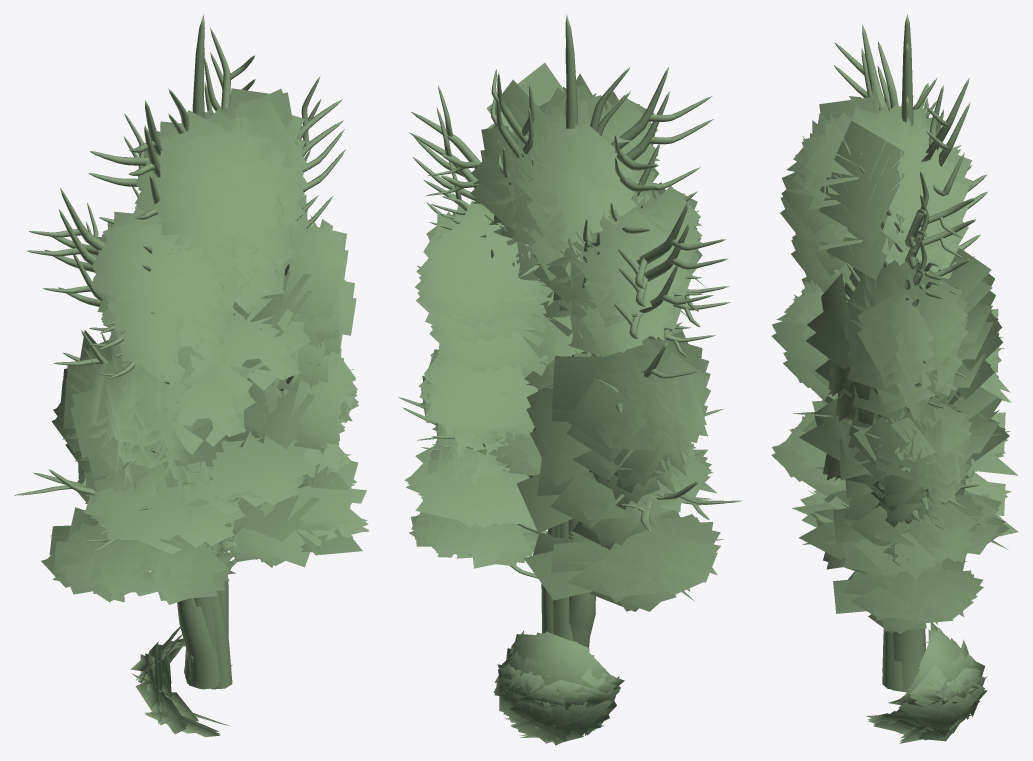
File: forest-edge.glb
3 views of the same model, side by side, from view 1: azimuth 30°, elevation 25°; view 2: azimuth 150°, elevation 25°; view 3: azimuth 270°, elevation 25° (orthographic).
Parts seen in each view (by area): view 1: architecture.forest-edge.doorway:state-door, architecture.forest-edge.doorway:condition-overgrown, architecture.forest-edge.doorway:condition-damaged, architecture.forest-edge.doorway:condition-weathered, architecture.forest-edge.doorway:condition-burned, architecture.forest-edge.fountain:visual-base, architecture.forest-edge.fountain:condition-weathered, architecture.forest-edge.fountain:condition-overgrown, architecture.forest-edge.fountain:condition-damaged, architecture.forest-edge.fountain:condition-burned, architecture.forest-edge.beam:condition-weathered, architecture.forest-edge.beam:visual-base (+2 smaller); view 2: architecture.forest-edge.doorway:state-door, architecture.forest-edge.doorway:condition-overgrown, architecture.forest-edge.doorway:condition-weathered, architecture.forest-edge.doorway:condition-damaged, architecture.forest-edge.doorway:condition-burned, architecture.forest-edge.fountain:visual-base, architecture.forest-edge.fountain:condition-weathered, architecture.forest-edge.beam:condition-weathered, architecture.forest-edge.beam:visual-base, architecture.forest-edge.beam:condition-overgrown, architecture.forest-edge.fountain:condition-burned, architecture.forest-edge.fountain:condition-overgrown (+2 smaller); view 3: architecture.forest-edge.doorway:state-door, architecture.forest-edge.doorway:condition-damaged, architecture.forest-edge.doorway:condition-overgrown, architecture.forest-edge.doorway:condition-weathered, architecture.forest-edge.doorway:condition-burned, architecture.forest-edge.fountain:visual-base, architecture.forest-edge.beam:condition-damaged, architecture.forest-edge.fountain:condition-weathered, architecture.forest-edge.beam:visual-base, architecture.forest-edge.beam:condition-weathered, architecture.forest-edge.beam:condition-overgrown, architecture.forest-edge.fountain:condition-burned (+1 smaller).
Part boxes in pixels (box(x1,y1,x2,y2)): architecture.forest-edge.doorway:state-door: box(53, 88, 357, 544); architecture.forest-edge.doorway:condition-overgrown: box(41, 431, 369, 679); architecture.forest-edge.doorway:condition-damaged: box(77, 295, 353, 637); architecture.forest-edge.doorway:condition-weathered: box(51, 123, 358, 687); architecture.forest-edge.doorway:condition-burned: box(65, 221, 344, 688); architecture.forest-edge.fountain:visual-base: box(29, 14, 344, 624); architecture.forest-edge.fountain:condition-weathered: box(27, 48, 345, 688); architecture.forest-edge.fountain:condition-overgrown: box(14, 448, 220, 683); architecture.forest-edge.fountain:condition-damaged: box(53, 312, 293, 689); architecture.forest-edge.fountain:condition-burned: box(42, 100, 332, 689); architecture.forest-edge.beam:condition-weathered: box(135, 627, 220, 734); architecture.forest-edge.beam:visual-base: box(136, 627, 219, 737); architecture.forest-edge.doorway:state-door: box(416, 63, 709, 603); architecture.forest-edge.doorway:condition-overgrown: box(404, 434, 723, 635); architecture.forest-edge.doorway:condition-weathered: box(415, 102, 710, 641); architecture.forest-edge.doorway:condition-damaged: box(418, 289, 690, 633); architecture.forest-edge.doorway:condition-burned: box(429, 193, 695, 509); architecture.forest-edge.fountain:visual-base: box(411, 14, 729, 311); architecture.forest-edge.fountain:condition-weathered: box(409, 48, 730, 539); architecture.forest-edge.beam:condition-weathered: box(502, 633, 620, 741); architecture.forest-edge.beam:visual-base: box(505, 631, 616, 745); architecture.forest-edge.beam:condition-overgrown: box(494, 648, 624, 712); architecture.forest-edge.fountain:condition-burned: box(424, 99, 715, 357); architecture.forest-edge.fountain:condition-overgrown: box(399, 397, 741, 647); architecture.forest-edge.doorway:state-door: box(781, 84, 1010, 497); architecture.forest-edge.doorway:condition-damaged: box(771, 280, 1018, 692); architecture.forest-edge.doorway:condition-overgrown: box(771, 401, 1018, 633); architecture.forest-edge.doorway:condition-weathered: box(780, 145, 1011, 511); architecture.forest-edge.doorway:condition-burned: box(791, 192, 1001, 527); architecture.forest-edge.fountain:visual-base: box(834, 14, 986, 289); architecture.forest-edge.beam:condition-damaged: box(866, 657, 987, 734); architecture.forest-edge.fountain:condition-weathered: box(834, 43, 987, 300); architecture.forest-edge.beam:visual-base: box(868, 622, 972, 743); architecture.forest-edge.beam:condition-weathered: box(867, 641, 973, 741); architecture.forest-edge.beam:condition-overgrown: box(888, 642, 987, 706); architecture.forest-edge.fountain:condition-burned: box(883, 96, 980, 306).
Bounding box in the file's own units: 3.34 × 6.83 × 2.1.
